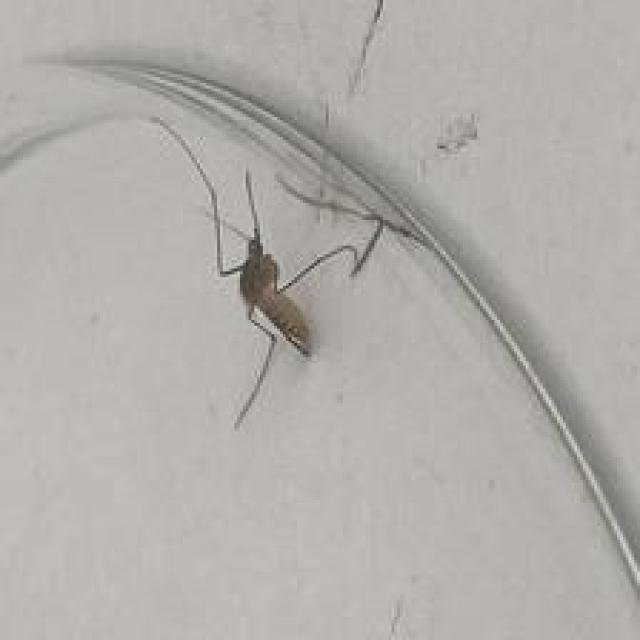Culex: (147, 111, 416, 432)
